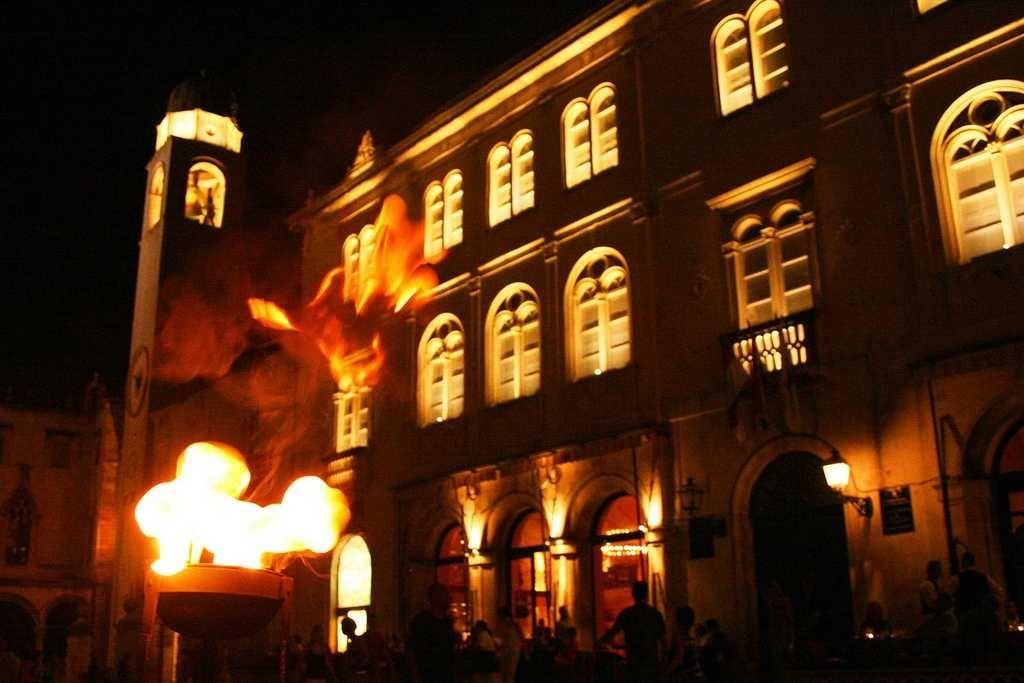fire: (128, 261, 368, 583)
